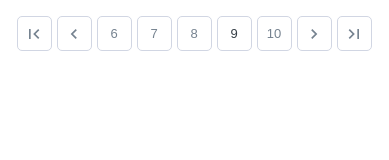
it: <Pagination/> › click FirstPageButton to disable FirstPageButton
Click the button with test id "first-page-button" at (34, 34), box [16,16,52,51]
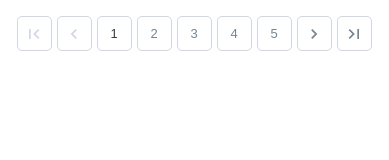
Expected: the button with test id "first-page-button" is disabled, [16,16,52,51]
